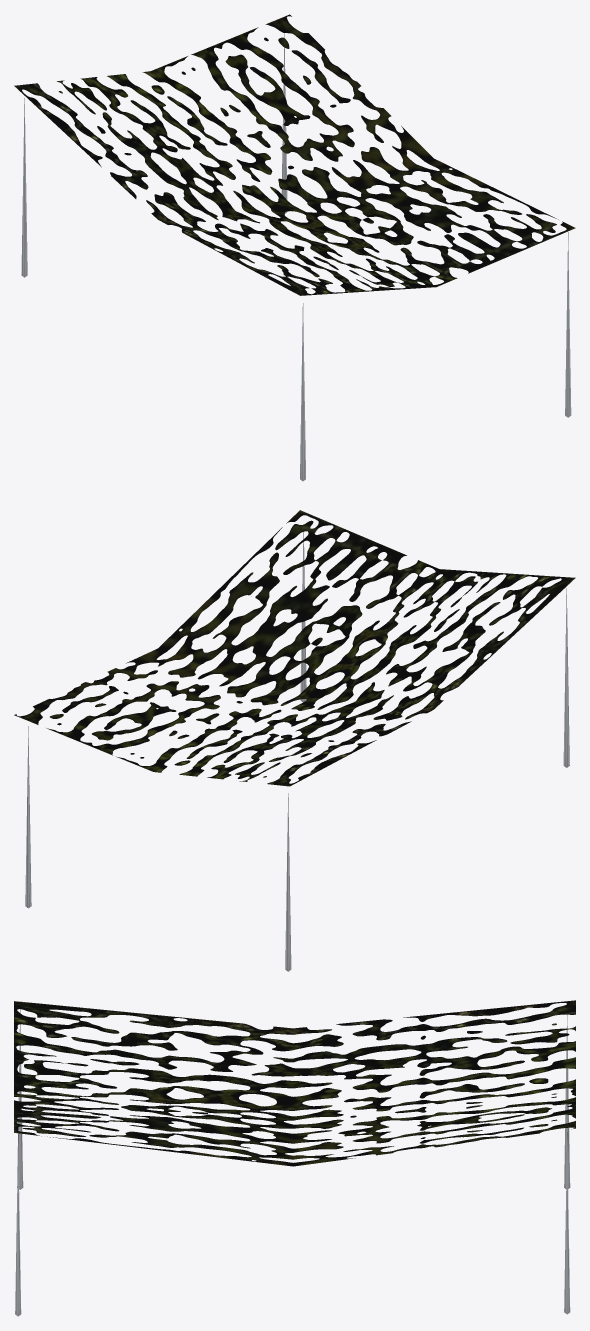
File: camonetting_hdtex.glb
3 views of the same model, one above another, from view 1: azimuth 30°, elevation 25°; view 2: azimuth 150°, elevation 25°; view 3: azimuth 270°, elevation 25° (orthographic).
Parts seen in each view (by area): view 1: camonetting; view 2: camonetting; view 3: camonetting.
Part boxes in pixels (box(x1,y1,x2,y2)): camonetting: box(14, 14, 575, 481); camonetting: box(14, 510, 575, 971); camonetting: box(14, 1000, 575, 1316).
Size of the model in its own units: 6.97 by 4.65 by 12.52.
Materials: 1 (1 with a texture image).
